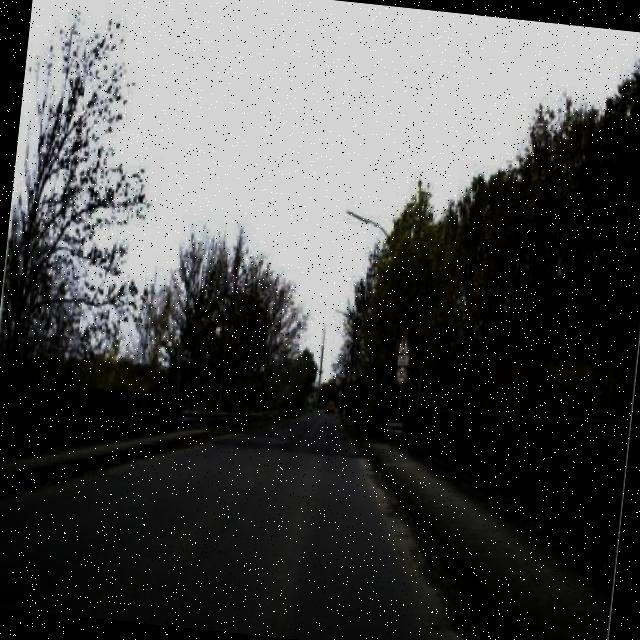Ograniczenie predkosci do 30: (392, 360, 410, 388)
